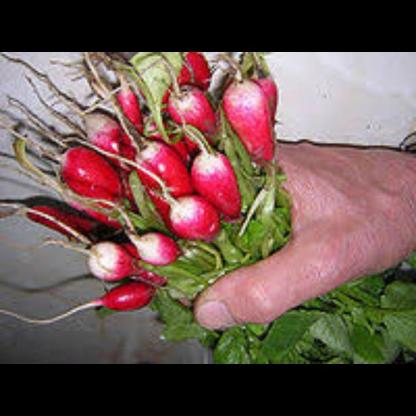rediska: (22, 54, 280, 336)
